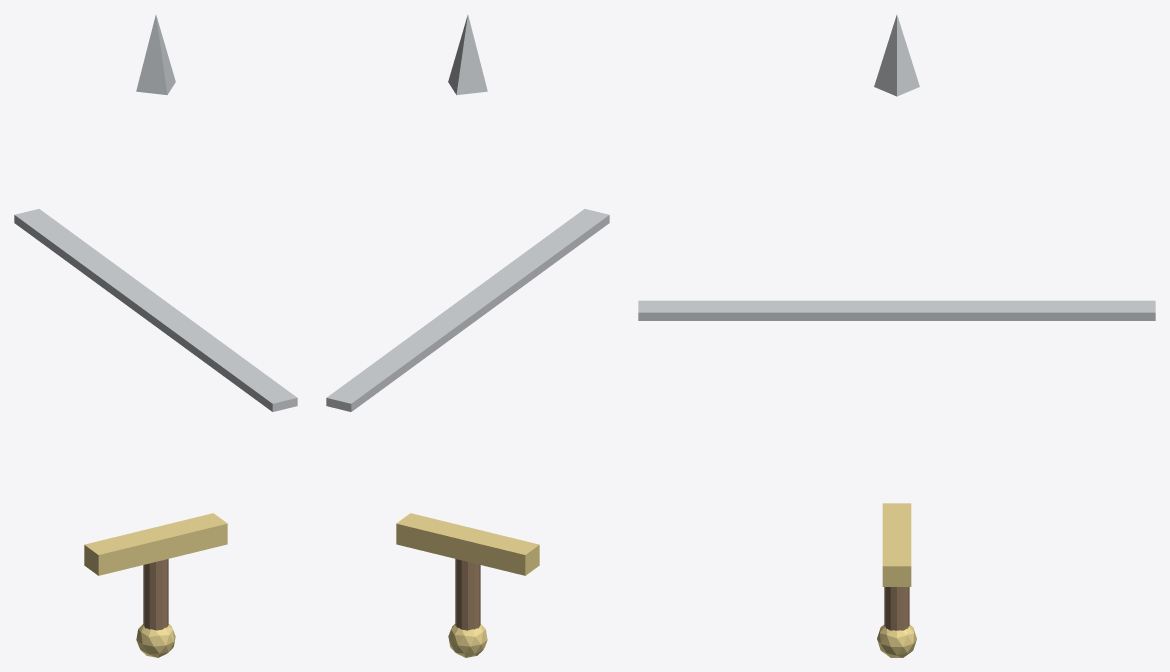
The model's file is wpn_sword.glb.
3 renders of one model, left to right at view 1: azimuth 30°, elevation 25°; view 2: azimuth 150°, elevation 25°; view 3: azimuth 270°, elevation 25°, orthographic.
Parts seen in each view (by area): view 1: wpn_sword; view 2: wpn_sword; view 3: wpn_sword.
Part boxes in pixels (box(x1,y1,x2,y2)): wpn_sword: box(14, 15, 297, 657); wpn_sword: box(326, 15, 609, 657); wpn_sword: box(638, 15, 1155, 657).
Bounding box in the file's own units: 0.26 × 1.24 × 0.9.
